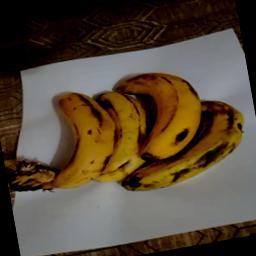Banana Unripe: (118, 62, 208, 166), (40, 80, 122, 194), (90, 78, 156, 180)
